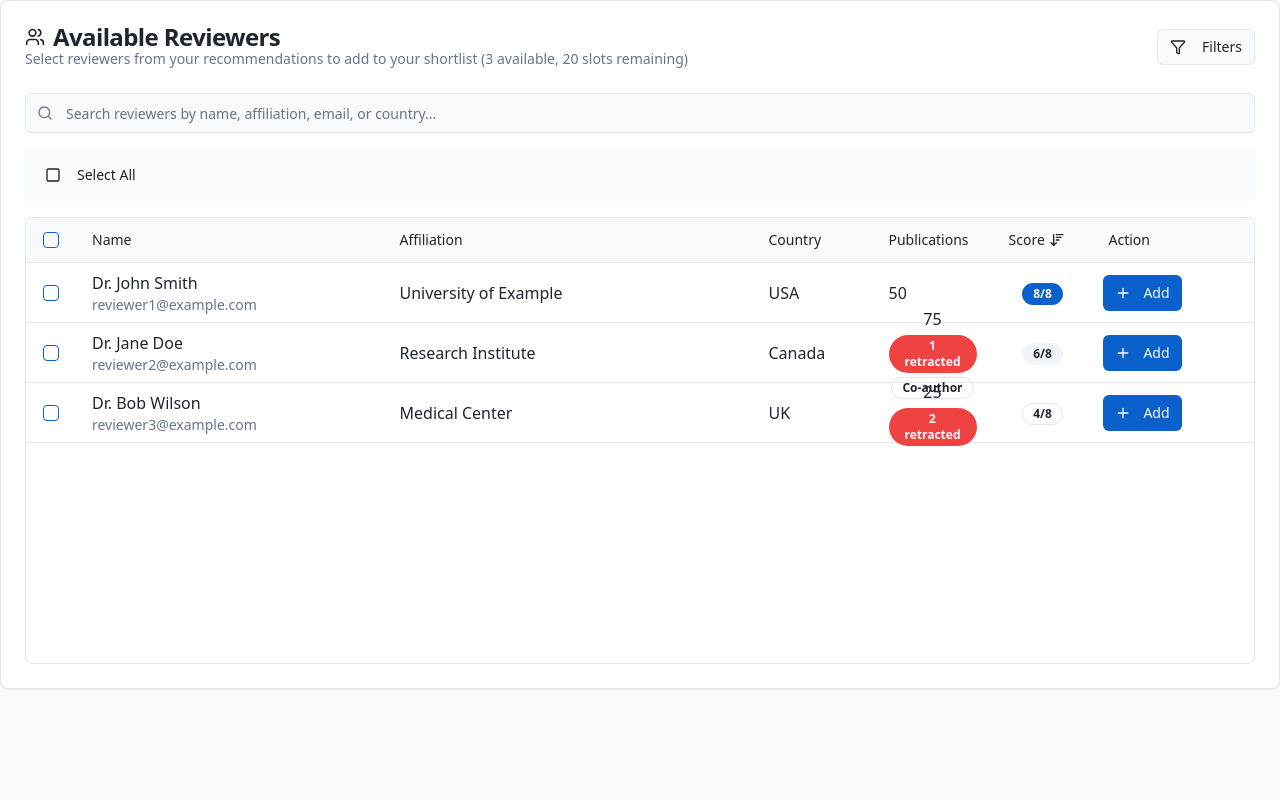
it: ReviewerSelection › handles select all functionality
Note: Click select all button
Click the button "Select All" at (90, 175), box top-left (33, 157), bottom-right (148, 193)
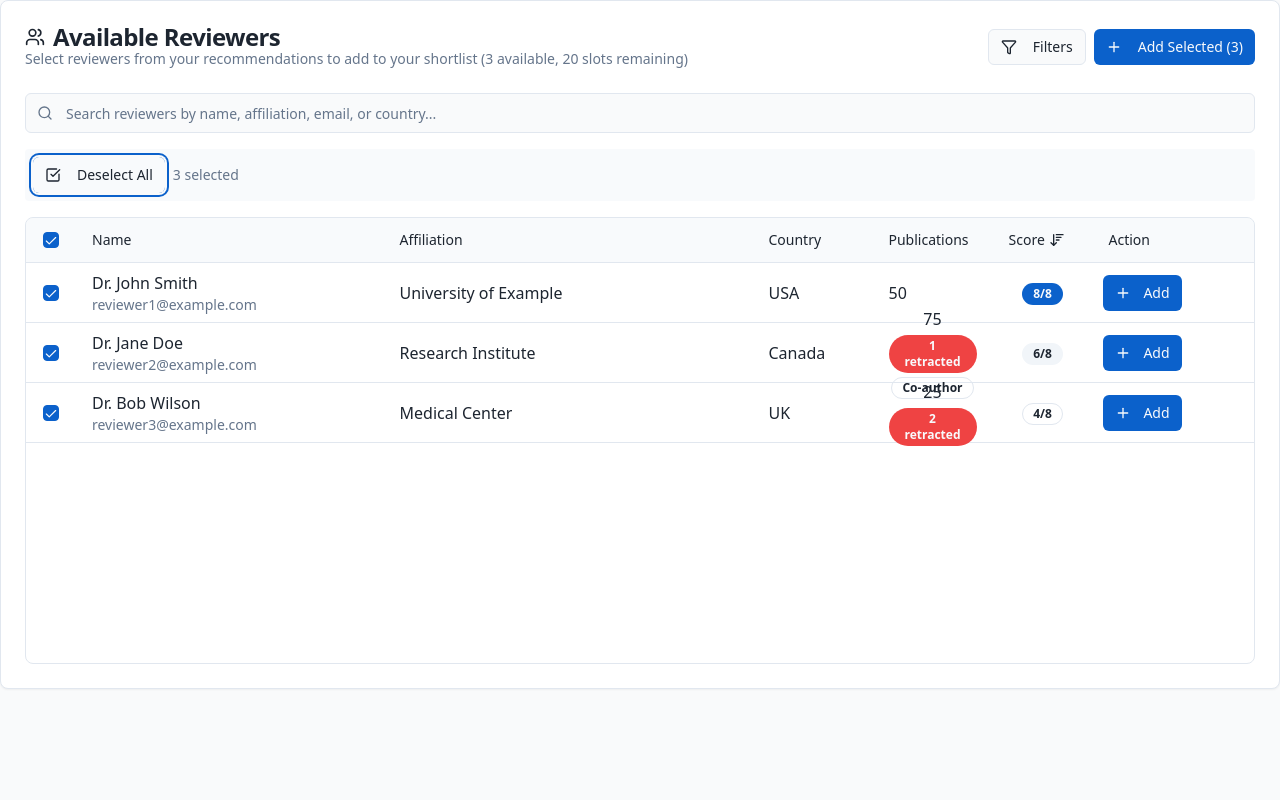
expect the button "Add Selected (3)" is shown: met, box top-left (1094, 29), bottom-right (1255, 65)
